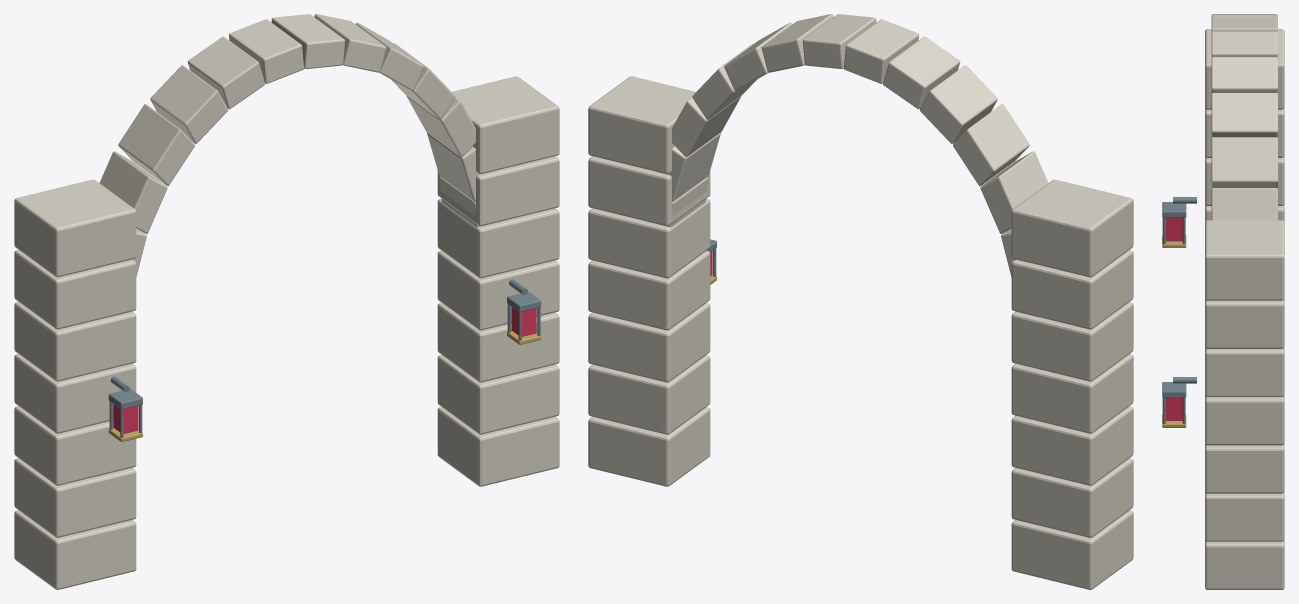
File: a6_gate.glb
3 views of the same model, side by side, from view 1: azimuth 30°, elevation 25°; view 2: azimuth 150°, elevation 25°; view 3: azimuth 270°, elevation 25° (orthographic). The views are drawn at different scales.
Visible parts, largest first — view 1: Body.068; view 2: Body.068; view 3: Body.068.
Boxes of the visible parts, <box> form: Body.068: <box>14,14,559,589</box>; Body.068: <box>588,14,1133,589</box>; Body.068: <box>1162,14,1284,589</box>.
Bounding box in the file's own units: 4.05 × 3.71 × 0.92.
